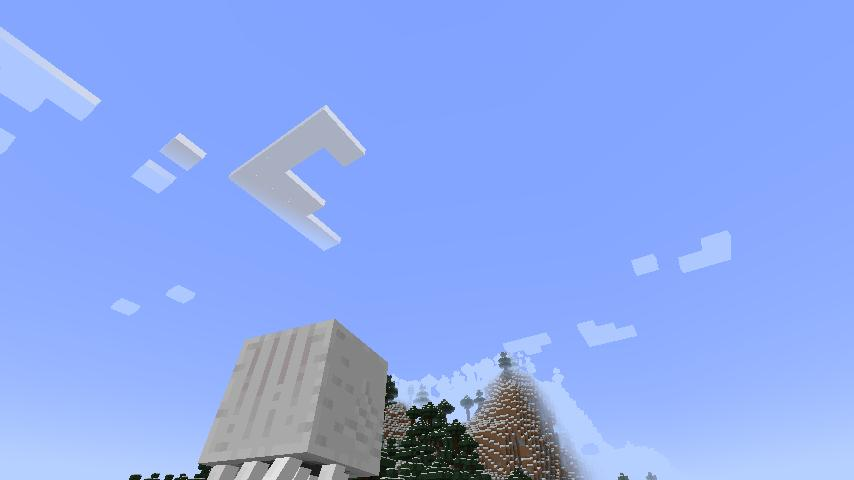ghast: (197, 315, 391, 480)
